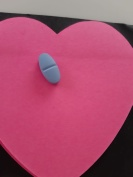Majezik: (37, 51, 61, 86)
